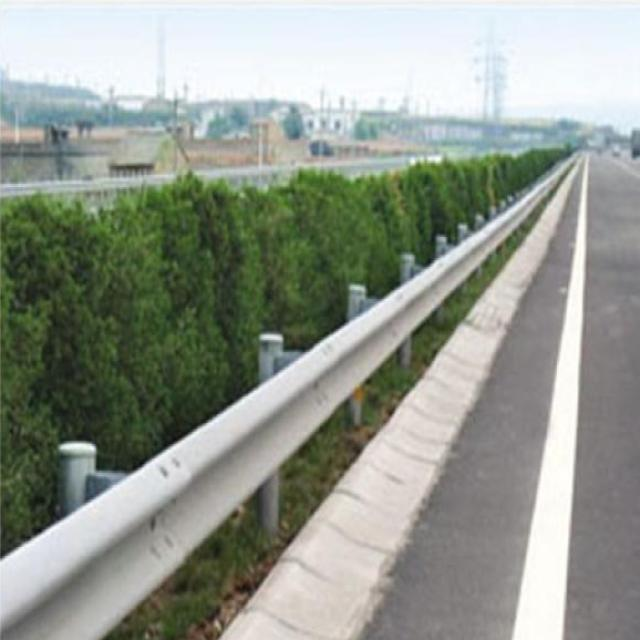Guard rail: (0, 158, 576, 640)
